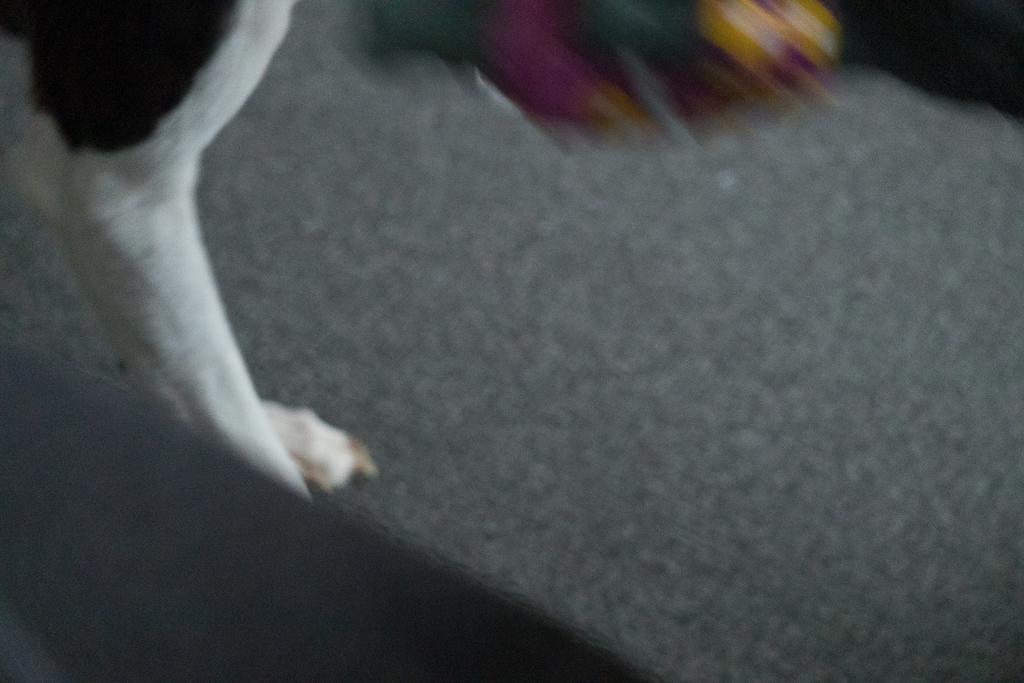Dog: (0, 0, 391, 515)
Humanoid: (325, 0, 891, 172)
